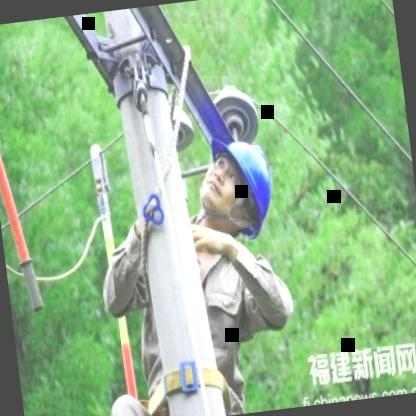helmet: (191, 130, 277, 236)
